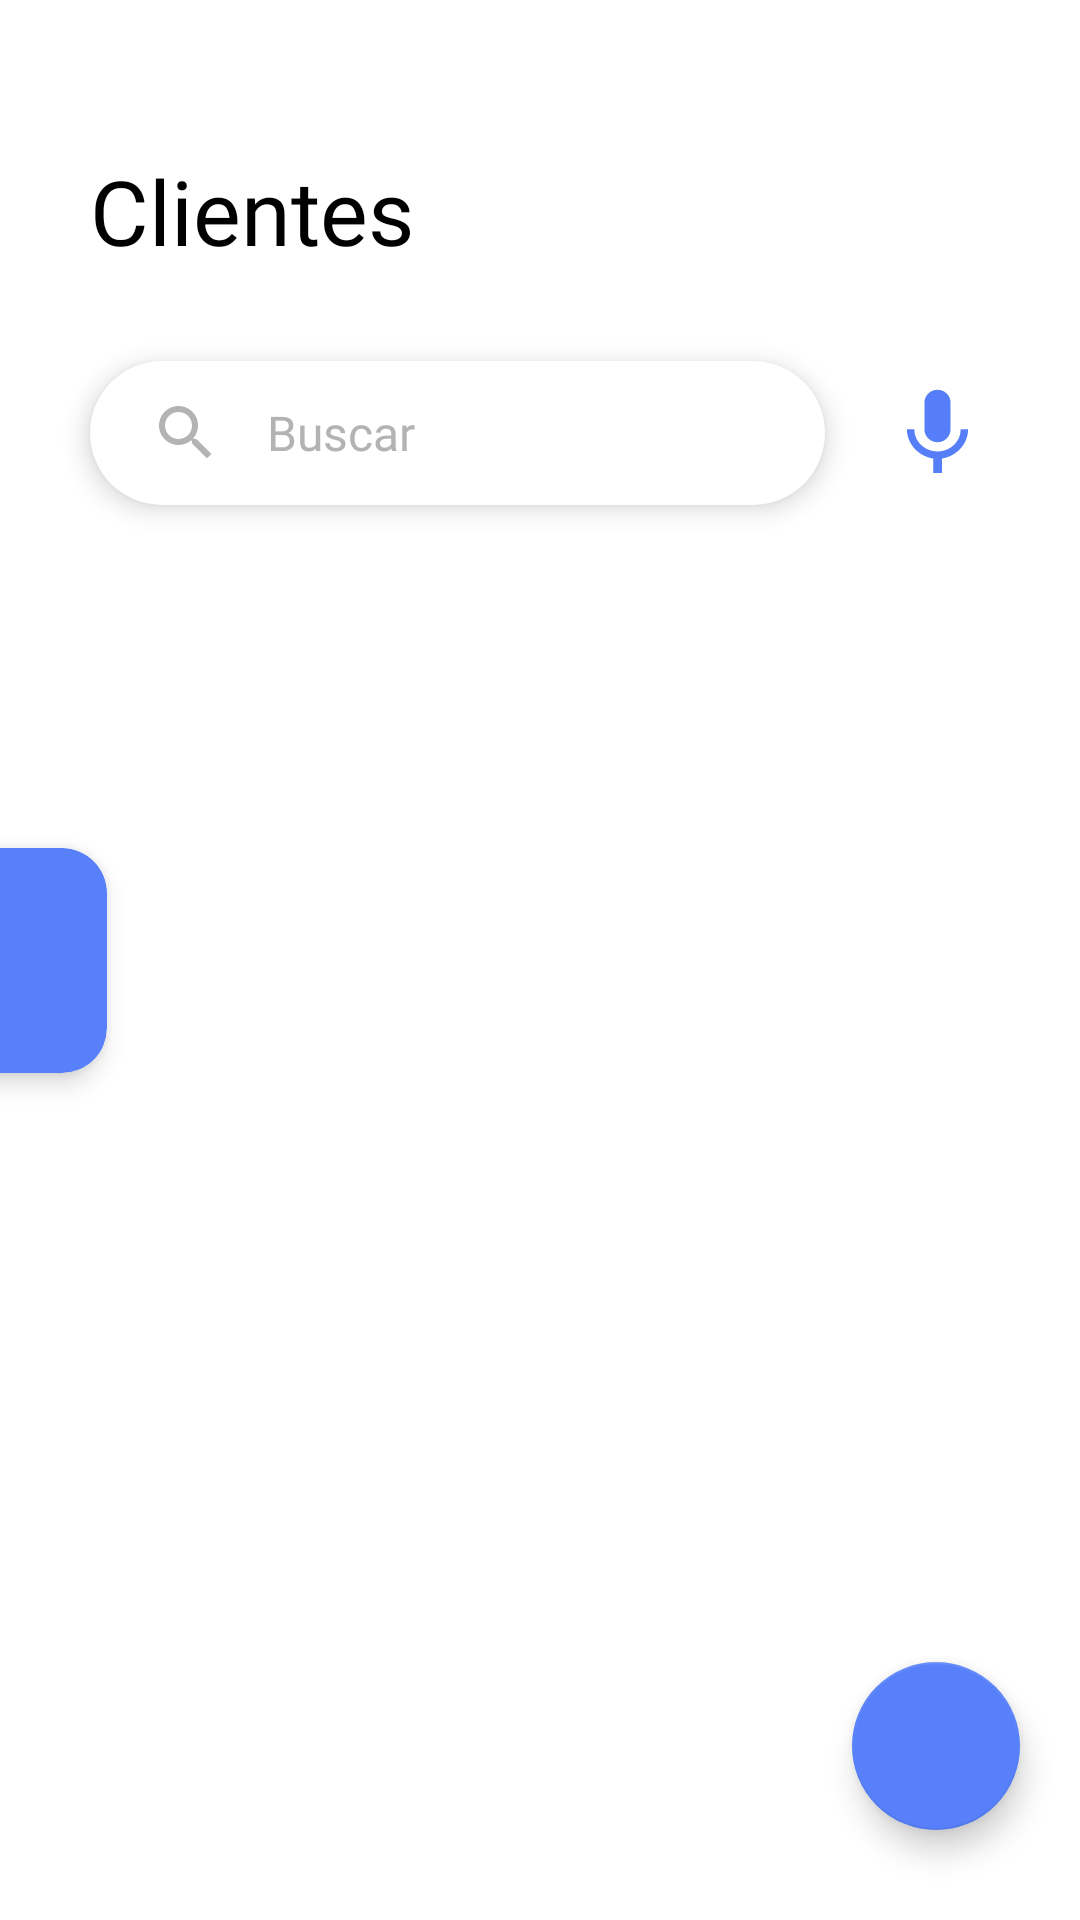

Icons on this 1080*1920 Android screen, each with the point to tap as (x,y):
mic: (937,431)
